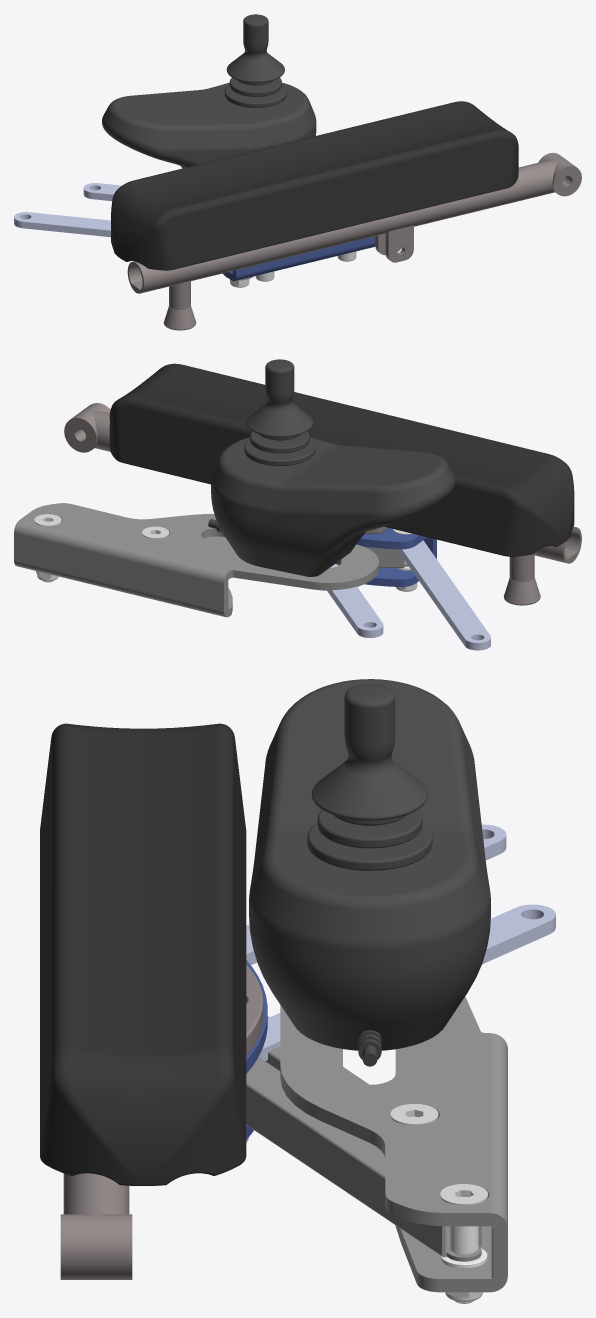
File: 2020-11-11_Pantographe cote Droit-Replie 1.fbx
The picture shows the model from 3 angles, top to bottom: view 1: azimuth 30°, elevation 25°; view 2: azimuth 150°, elevation 25°; view 3: azimuth 270°, elevation 25°; orthographic projection. The views are drawn at different scales.
Parts seen in each view (by area): view 1: Body_1_23, Body_1, Body_2, Body_1_2, Body_1_24, Body_1_25; view 2: Body_1_23, Body_1, Body_1_3, Body_2, Body_1_24, Body_1_2, Body_1_25, Body_1_5; view 3: Body_1_23, Body_1, Body_1_3, Body_1_4, Body_2, Body_1_25, Body_1_22, Body_1_24, Body_1_13, Body_1_14, Body_1_6.
Boxes of the visible parts, box(x1,y1,x2,y2) form: Body_1_23: box(111, 101, 518, 270); Body_1: box(102, 14, 316, 168); Body_2: box(127, 152, 581, 330); Body_1_2: box(222, 236, 375, 281); Body_1_24: box(14, 212, 110, 237); Body_1_25: box(83, 183, 121, 201); Body_1_23: box(109, 363, 574, 556); Body_1: box(208, 359, 455, 576); Body_1_3: box(14, 503, 378, 617); Body_2: box(64, 403, 581, 605); Body_1_24: box(397, 540, 490, 650); Body_1_2: box(356, 528, 436, 586); Body_1_25: box(327, 564, 383, 637); Body_1_5: box(204, 536, 408, 568); Body_1_23: box(40, 723, 246, 1185); Body_1: box(249, 679, 490, 1066); Body_1_3: box(280, 996, 507, 1292); Body_1_4: box(246, 1057, 481, 1261); Body_2: box(60, 1173, 132, 1279); Body_1_25: box(258, 904, 555, 1060); Body_1_22: box(246, 965, 263, 1055); Body_1_24: box(246, 824, 506, 964); Body_1_13: box(440, 1184, 487, 1303); Body_1_14: box(390, 1104, 438, 1125); Body_1_6: box(449, 1226, 478, 1254).
Bounding box in the file's own units: 0.365 × 0.177 × 0.1669.
